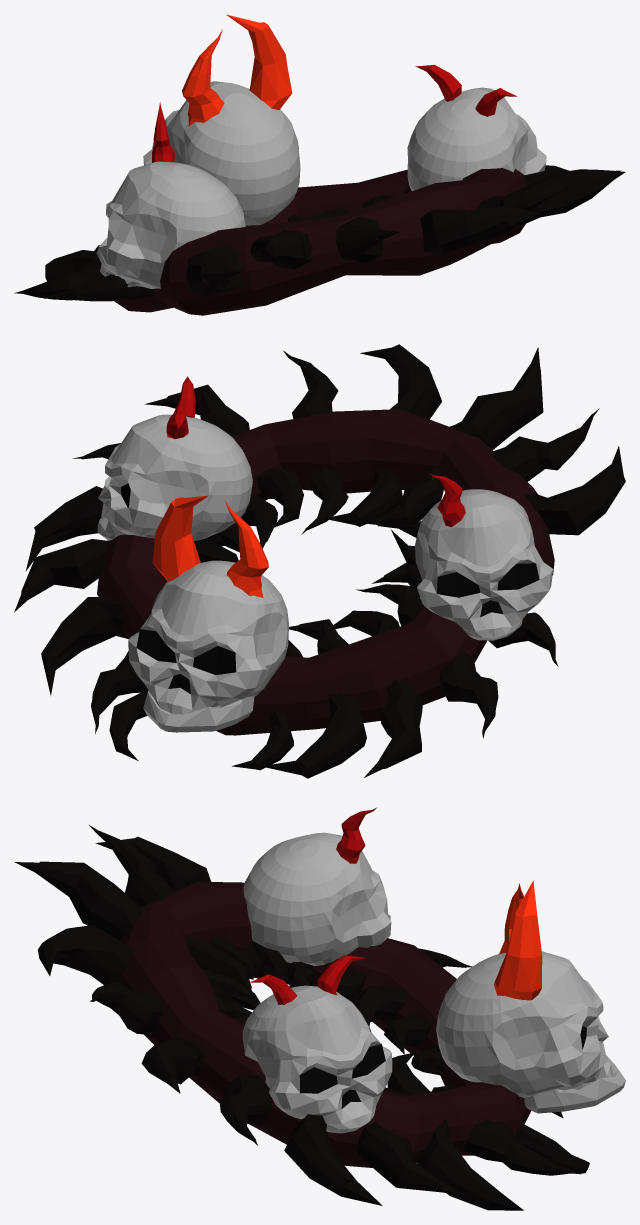
Rendered from CentipedeBoss_4.obj.
3 renders of one model, top to bottom at view 1: azimuth 30°, elevation 25°; view 2: azimuth 150°, elevation 25°; view 3: azimuth 270°, elevation 25°, orthographic. The views are drawn at different scales.
Visible parts, largest first — view 1: Torus.001, Sphere.009_Sphere.002, Sphere.011_Sphere.004, Sphere.010_Sphere.003; view 2: Torus.001, Sphere.009_Sphere.002, Sphere.011_Sphere.004, Sphere.010_Sphere.003, Cube.059_Cube.008; view 3: Torus.001, Sphere.009_Sphere.002, Sphere.010_Sphere.003, Sphere.011_Sphere.004, Cube.059_Cube.008.
Part boxes in pixels (<box>): Torus.001: <box>14,165,625,315</box>; Sphere.009_Sphere.002: <box>143,14,300,225</box>; Sphere.011_Sphere.004: <box>96,102,245,288</box>; Sphere.010_Sphere.003: <box>407,64,546,191</box>; Torus.001: <box>14,344,625,778</box>; Sphere.009_Sphere.002: <box>128,495,288,714</box>; Sphere.011_Sphere.004: <box>415,473,553,640</box>; Sphere.010_Sphere.003: <box>97,376,252,540</box>; Cube.059_Cube.008: <box>143,691,254,732</box>; Torus.001: <box>14,824,589,1210</box>; Sphere.009_Sphere.002: <box>436,880,612,1097</box>; Sphere.010_Sphere.003: <box>242,955,392,1133</box>; Sphere.011_Sphere.004: <box>243,807,391,965</box>; Cube.059_Cube.008: <box>524,1055,625,1113</box>.
Bounding box in the file's own units: 19.55 × 8.91 × 18.79.
